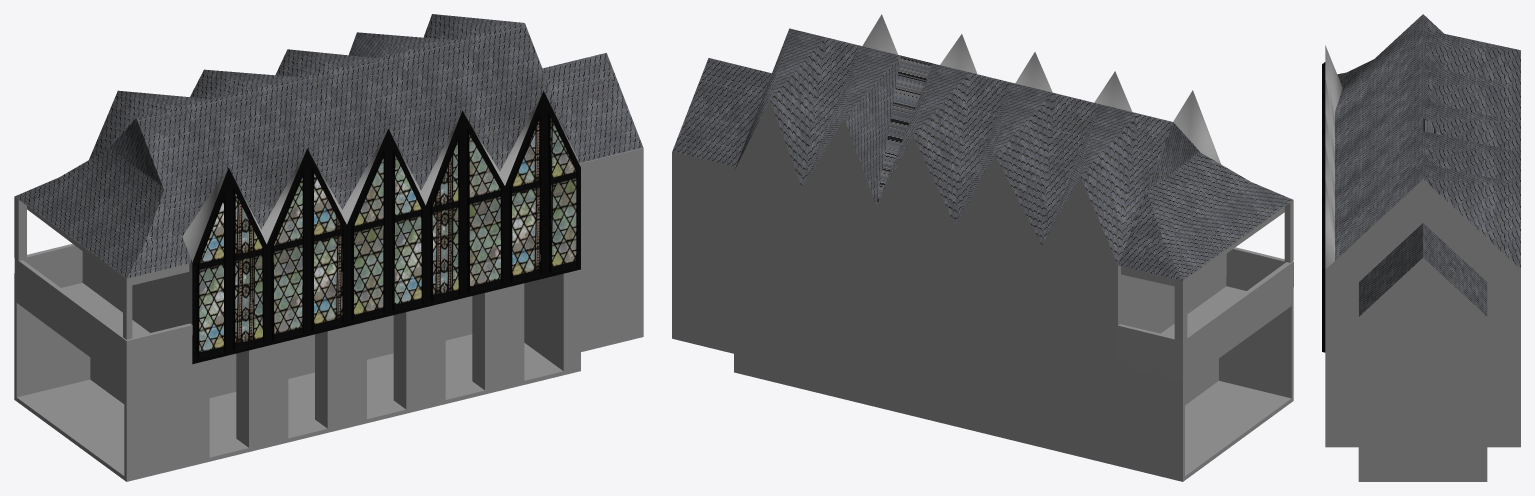
Rendered from town hall.FBX.
The picture shows the model from 3 angles, left to right: view 1: azimuth 30°, elevation 25°; view 2: azimuth 150°, elevation 25°; view 3: azimuth 270°, elevation 25°; orthographic projection. The views are drawn at different scales.
Parts seen in each view (by area): view 1: Box001; view 2: Box001; view 3: Box001.
Part boxes in pixels (x1,y1,x2,y2): Box001: [14, 14, 643, 481]; Box001: [672, 14, 1293, 481]; Box001: [1322, 14, 1520, 481].
Bounding box in the file's own units: 1087 × 595 × 400.
Materials: 4 (2 with a texture image).
